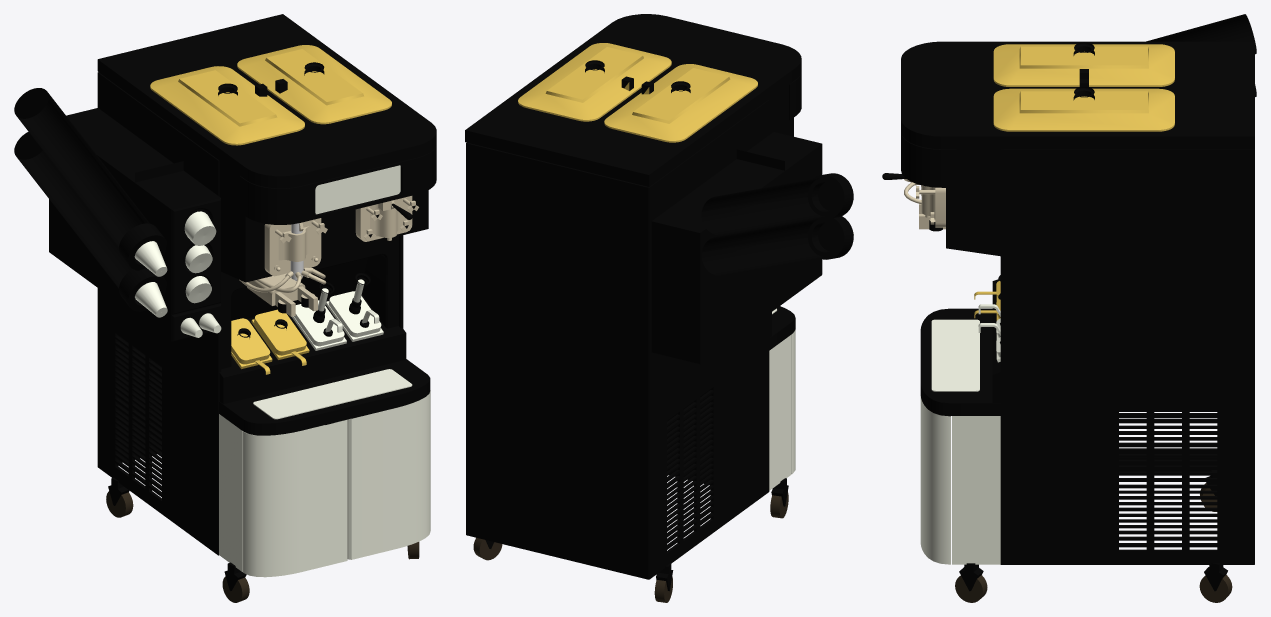
3 renders of one model, left to right at view 1: azimuth 30°, elevation 25°; view 2: azimuth 150°, elevation 25°; view 3: azimuth 270°, elevation 25°, orthographic. The views are drawn at different scales.
Parts seen in each view (by area): view 1: Circle01, Line17, Circle23, Circle08, Circle03; view 2: Circle01, Line17; view 3: Circle01, Line17, Circle03.
Boxes of the visible parts, x1,y1,x2,y2 form: Circle01: [14, 14, 436, 602]; Line17: [150, 45, 391, 374]; Circle23: [292, 272, 383, 350]; Circle08: [239, 218, 327, 292]; Circle03: [247, 196, 418, 316]; Circle01: [465, 14, 853, 602]; Line17: [518, 43, 757, 142]; Circle01: [901, 14, 1256, 602]; Line17: [974, 42, 1174, 320]; Circle03: [882, 173, 945, 231].
Size of the model in its own units: 1.14 by 1.81 by 1.26.
